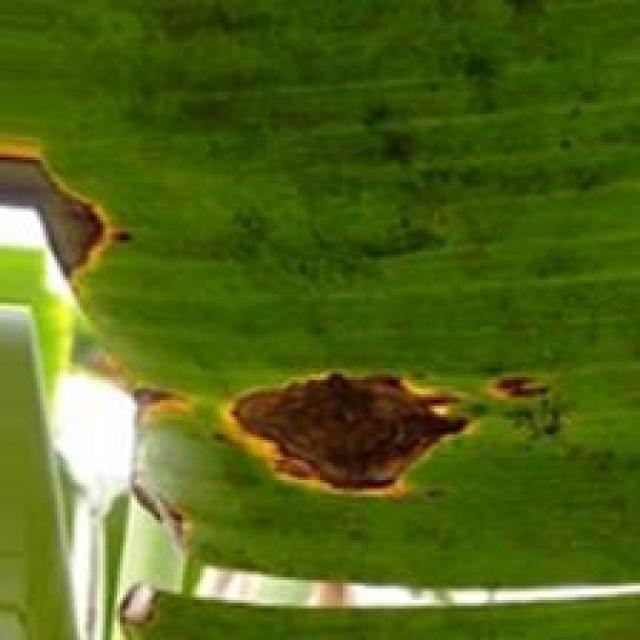Bacterial_spot: (219, 351, 472, 507), (0, 136, 144, 320), (67, 348, 193, 557), (476, 344, 576, 445), (368, 103, 426, 181), (108, 580, 182, 628)
